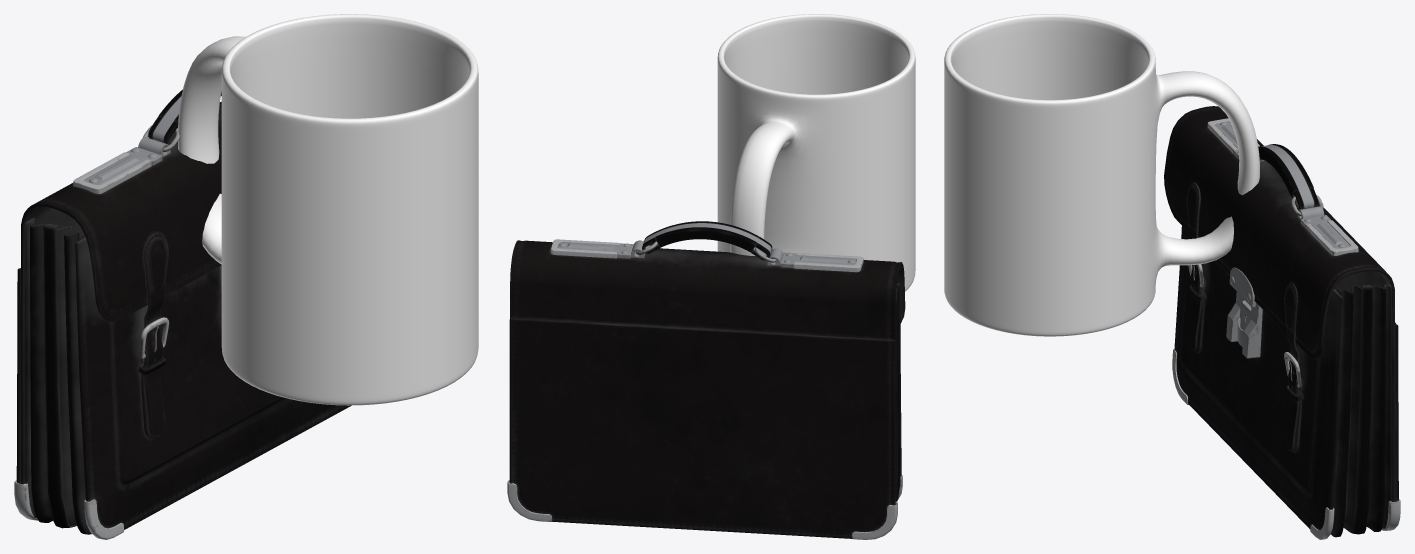
The model's file is vest.glb.
3 views of the same model, side by side, from view 1: azimuth 30°, elevation 25°; view 2: azimuth 150°, elevation 25°; view 3: azimuth 270°, elevation 25° (orthographic). The views are drawn at different scales.
Parts seen in each view (by area): view 1: anchor_neg, anchor_pos; view 2: anchor_pos, anchor_neg; view 3: anchor_neg, anchor_pos.
Boxes of the visible parts, x1=… form: anchor_neg: x1=178, y1=14, x2=478, y2=405; anchor_pos: x1=14, y1=89, x2=351, y2=539; anchor_pos: x1=507, y1=221, x2=905, y2=539; anchor_neg: x1=717, y1=14, x2=915, y2=291; anchor_neg: x1=944, y1=14, x2=1259, y2=336; anchor_pos: x1=1164, y1=106, x2=1400, y2=539.
Bounding box in the file's own units: 0.1782 × 0.1915 × 0.1946.
Materials: 2 (1 with a texture image).
